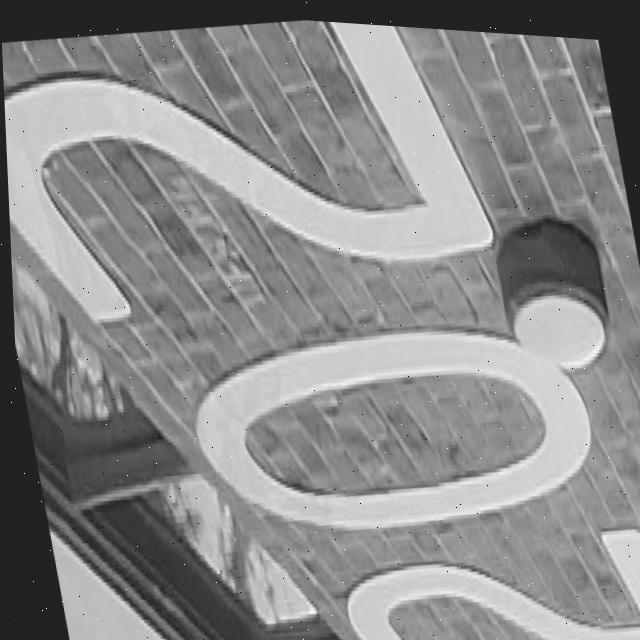character: (0, 0, 516, 374), (170, 267, 616, 569), (327, 482, 640, 640)
